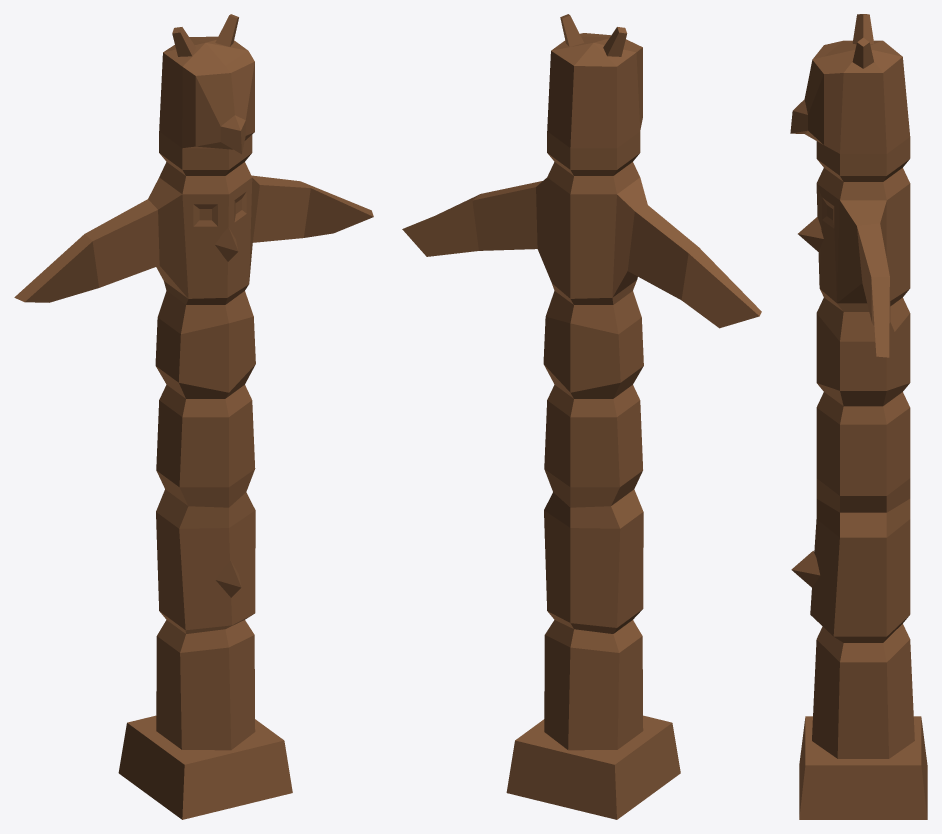
The model's file is totem.glb.
3 views of the same model, side by side, from view 1: azimuth 30°, elevation 25°; view 2: azimuth 150°, elevation 25°; view 3: azimuth 270°, elevation 25° (orthographic).
Parts seen in each view (by area): view 1: totem; view 2: totem; view 3: totem.
Part boxes in pixels (left/top/right/bottom): totem: left=14, top=14, right=373, bottom=819; totem: left=402, top=14, right=761, bottom=819; totem: left=790, top=14, right=927, bottom=819.
Size of the model in its own units: 1.49 by 3.04 by 0.4926.
Materials: 1 (1 with a texture image).
